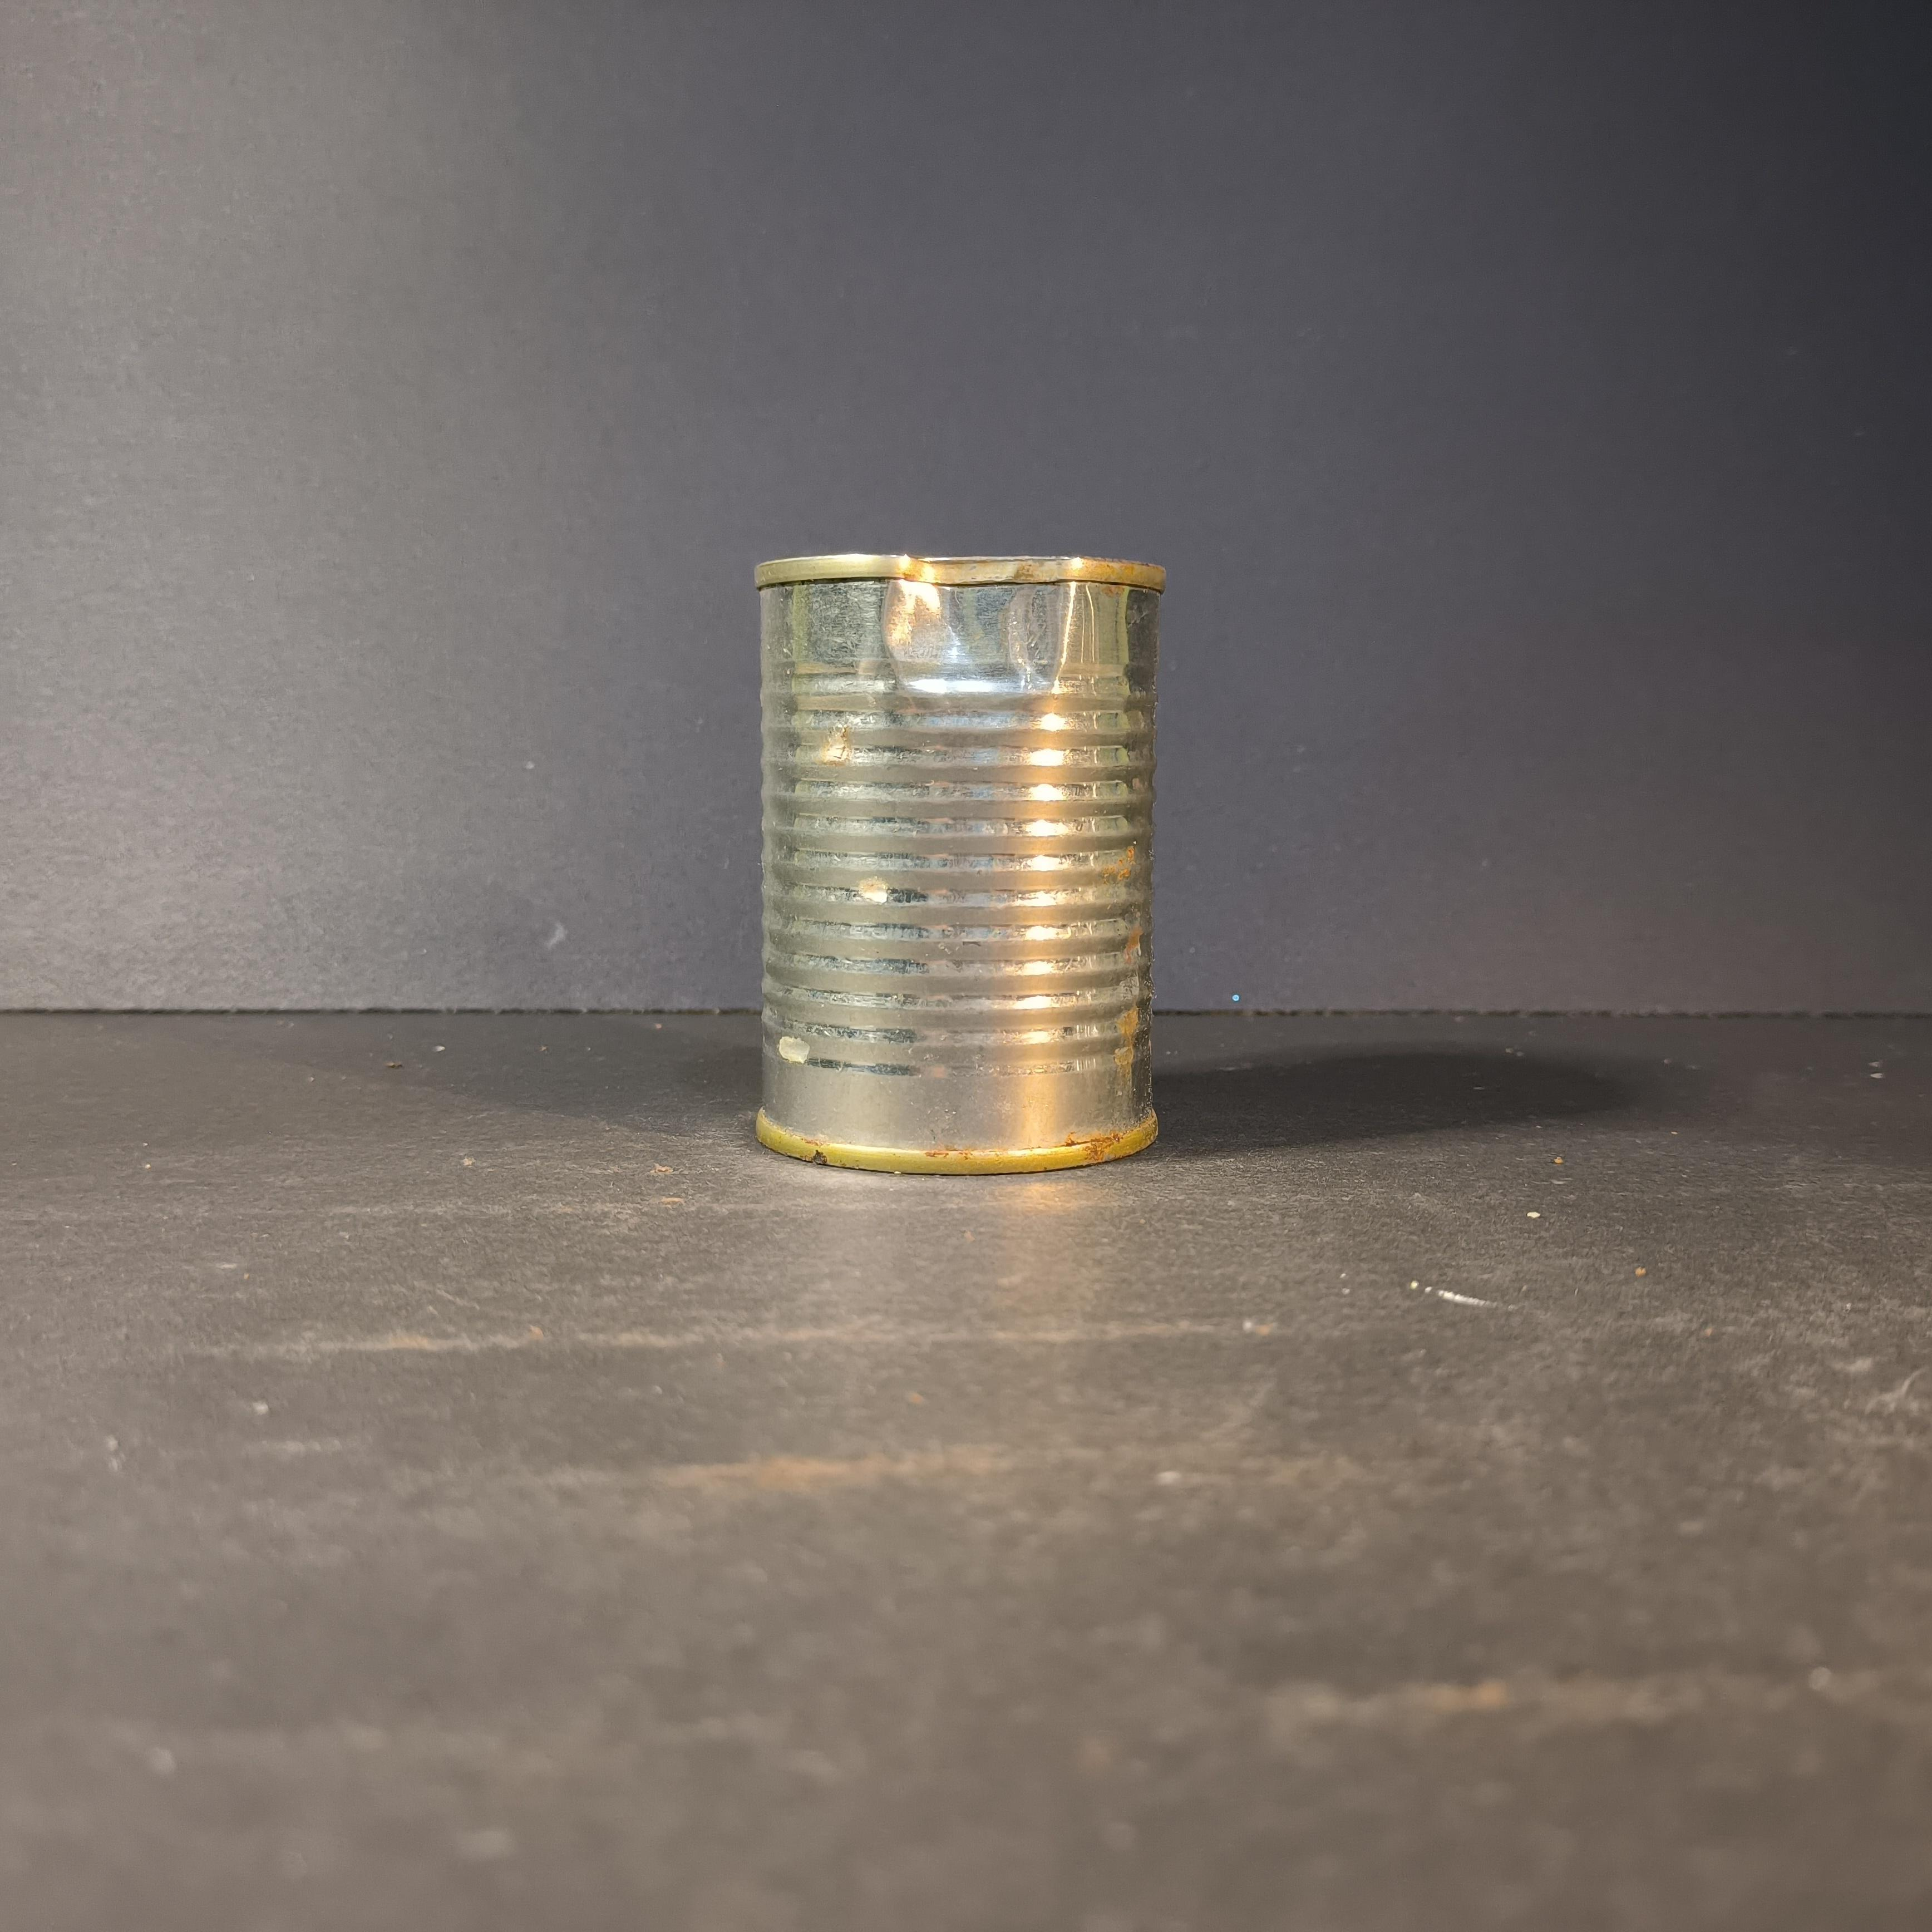Dented: (732, 518, 1187, 1182)
